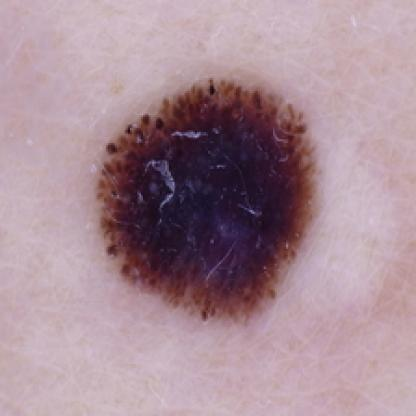Skin_Cancer-Malignant: (95, 75, 323, 334)
